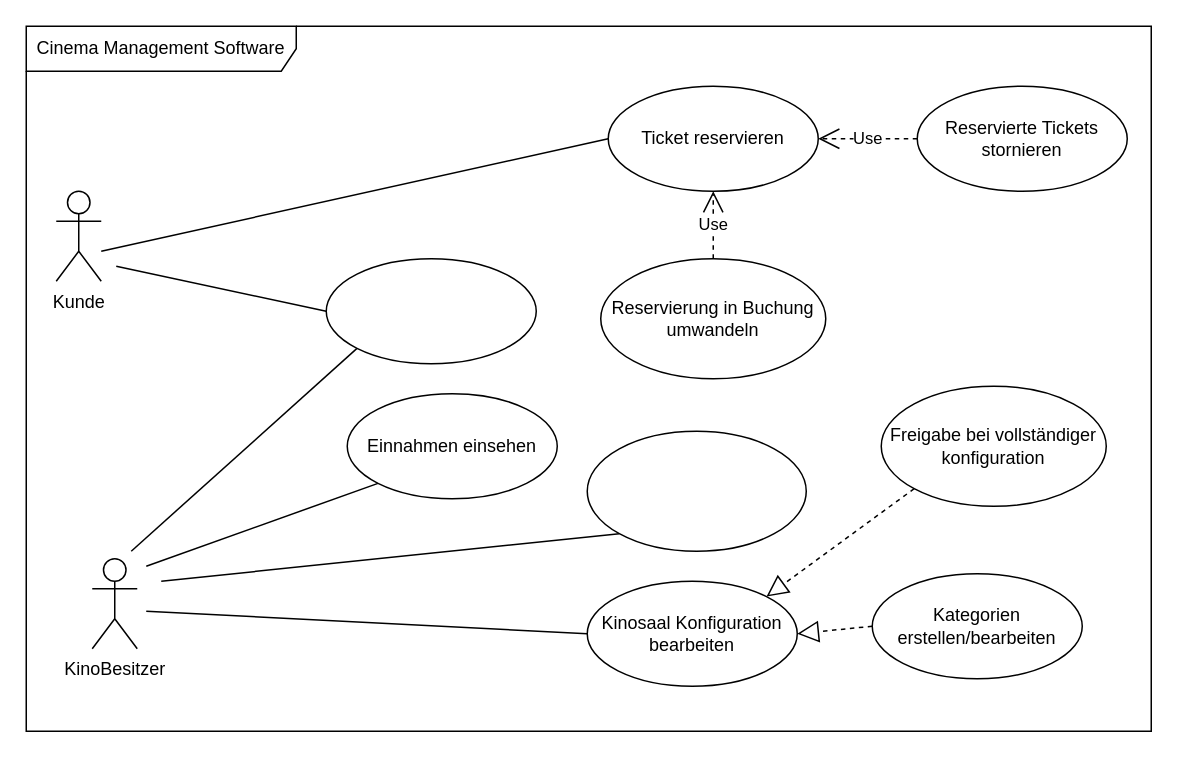
The diagram is 1178 pixels wide and 758 high, and some of its shapes have lost their labels. Here are the shapes that lost their labels. From the top down, the box of each, then its label:
(325, 257, 536, 364): Registrierung und Login
(586, 430, 806, 551): Filmaufführung erstellen/Film hinzufügen
